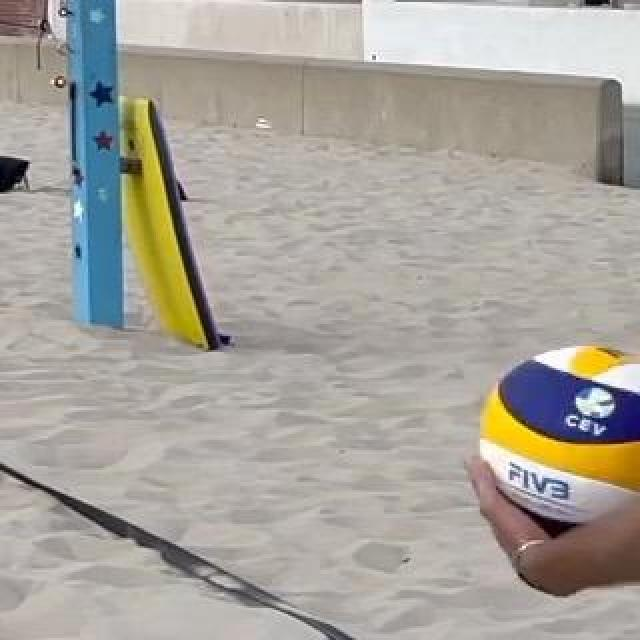volleyball: (478, 344, 640, 534)
